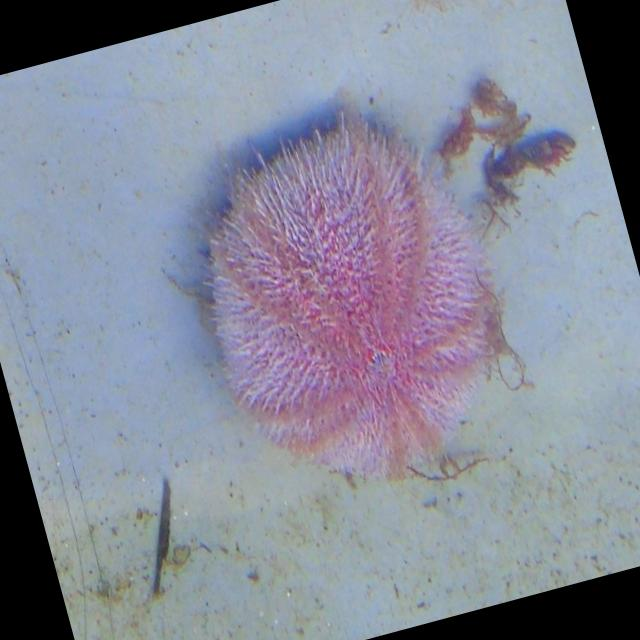Deniz Kestanesi: (169, 86, 534, 512)
